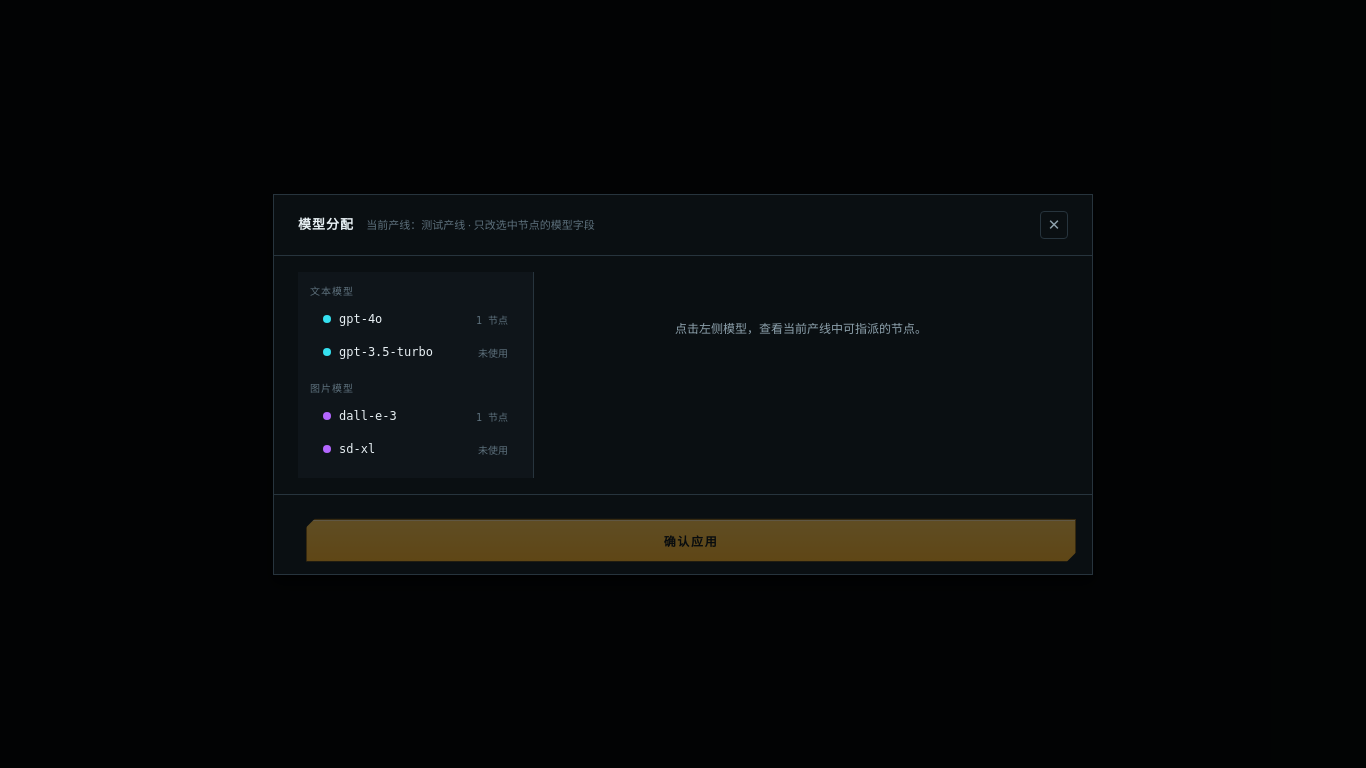
Test case: ModelAssignModal › 选择模型 › 选择图片模型后只显示图片节点
Expected: the text "文本模型" is shown, [310, 286, 354, 296]
Click the text "sd-xl" at (357, 449), box [339, 442, 375, 456]
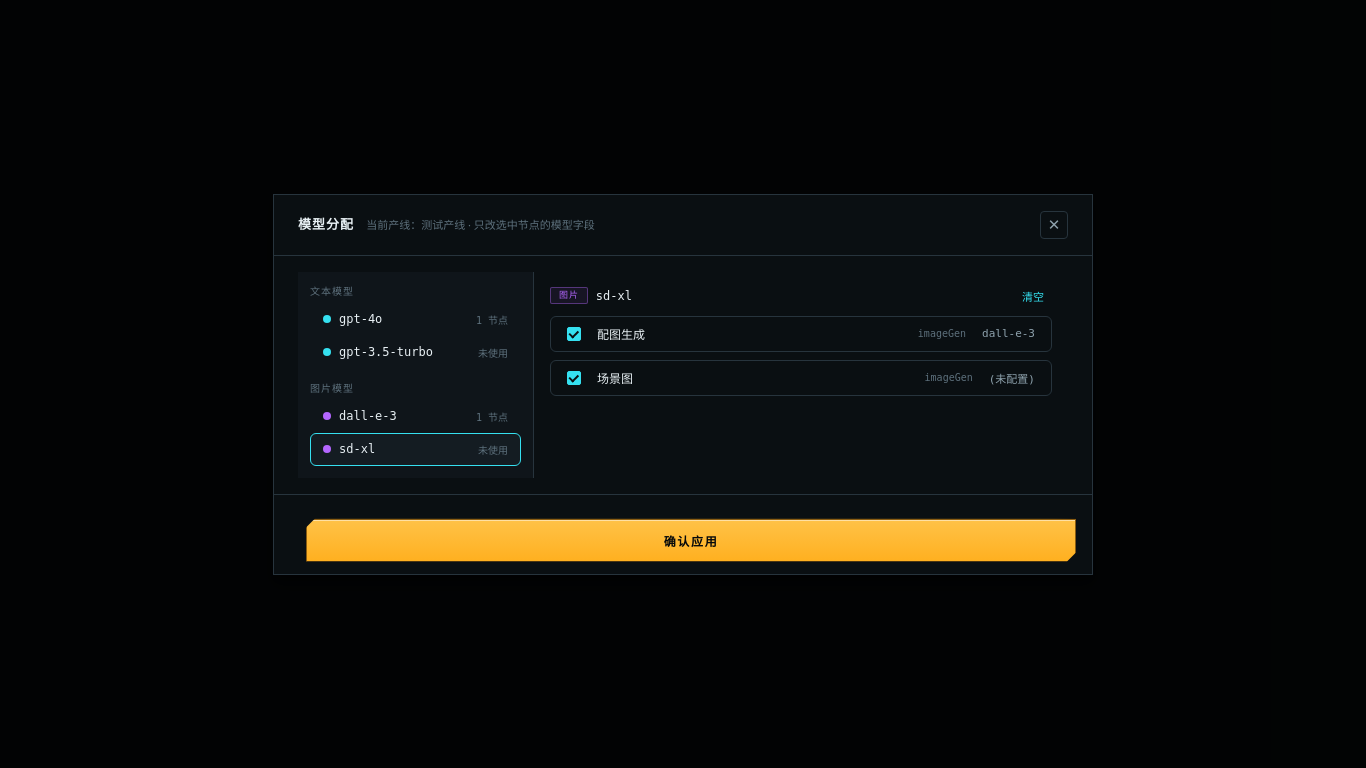
Result: the text "配图生成" is shown at [597, 326, 645, 342]
Result: the text "场景图" is shown at [597, 370, 633, 386]
